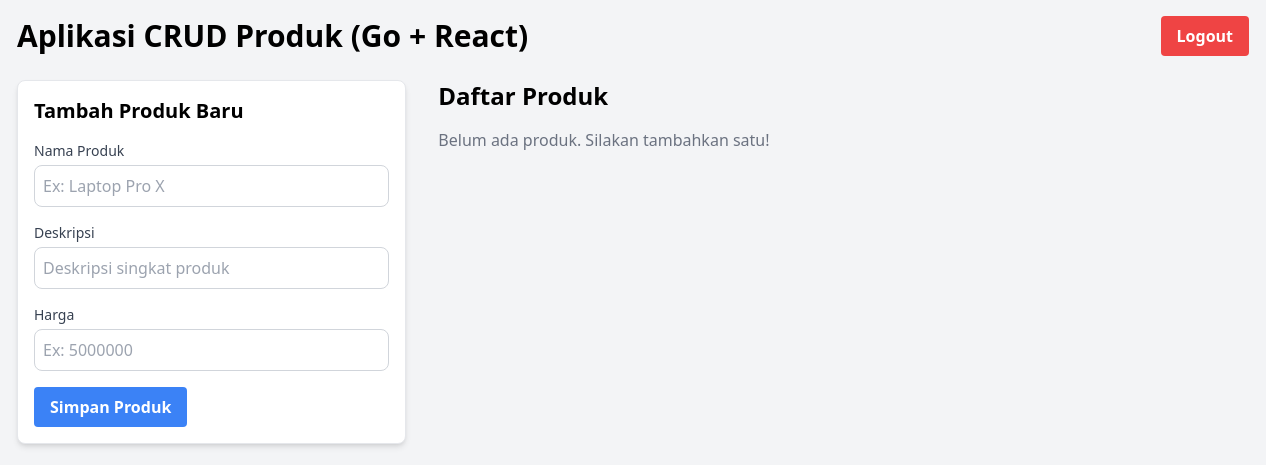
Test: ProductListPage Integration Test (Full CRUD) › should create a new product and update the list
This screenshot has width=1266, height=465.
Expected: the text "Belum ada produk. Silakan tambahkan satu!" is shown, [438,129,770,151]
Isi form
Step 1. Type "Laptop Baru" into the field labelled "Nama Produk" → (212, 186), box [34,165,389,207]
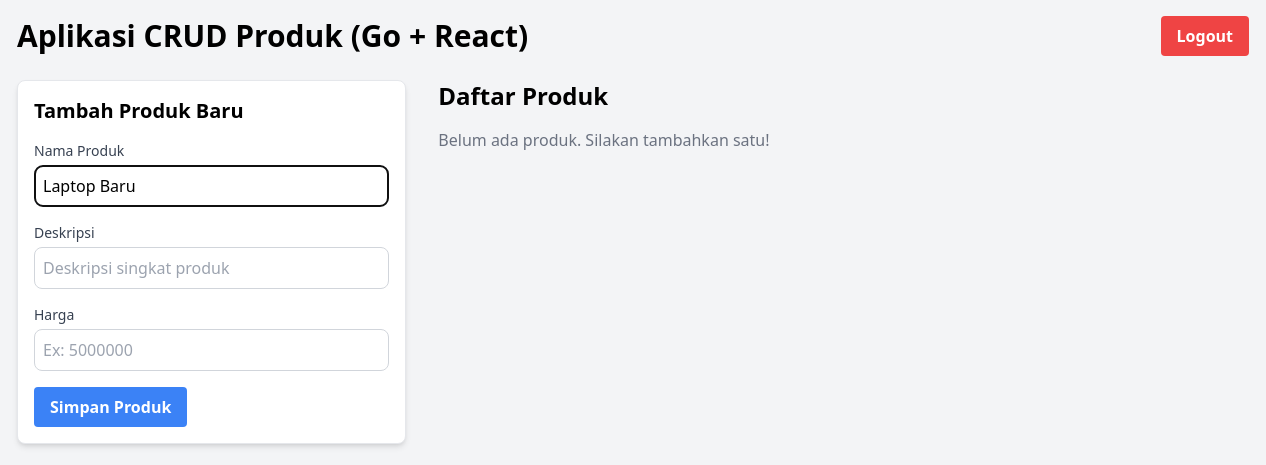
Step 2. Type "Spesifikasi Tinggi" into the field labelled "Deskripsi" → (212, 268), box [34,247,389,289]
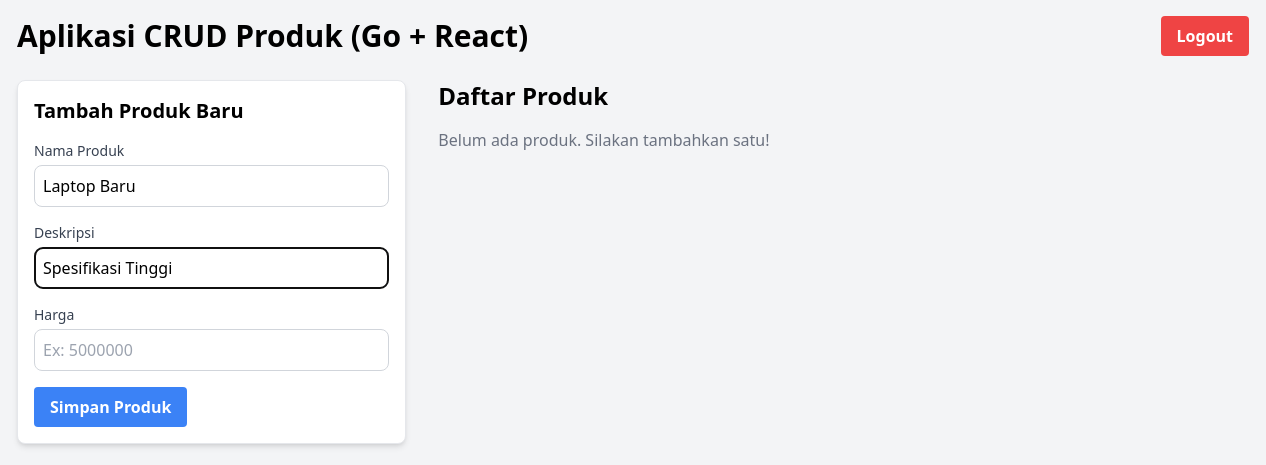
Step 3. Type "15000000" into the number field labelled "Harga" → (212, 350), box [34,329,389,371]
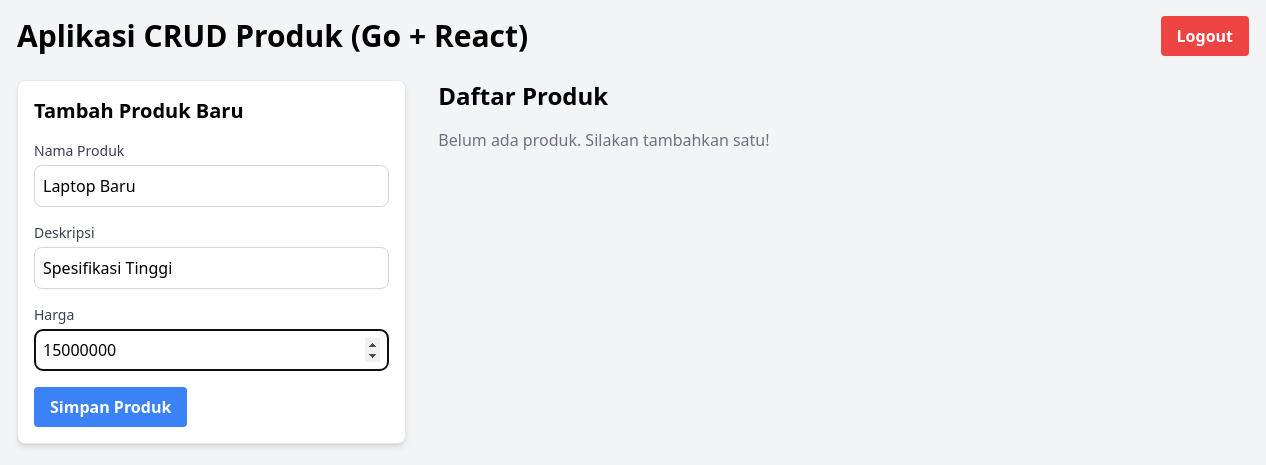
Step 4. Click the button "Simpan Produk" → (111, 407), box [34,387,187,427]
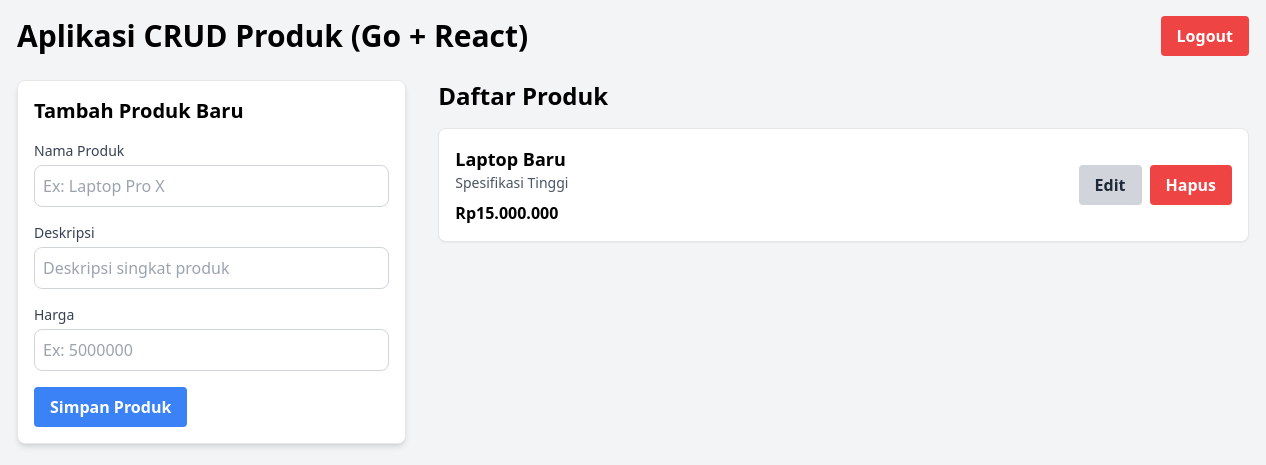
Expected: the heading "Laptop Baru" is shown, [455,145,568,173]
Expected: the text "Rp15.000.000" is shown, [455,201,568,225]
Expected: the field labelled "Nama Produk" is empty, [34,165,389,207]
